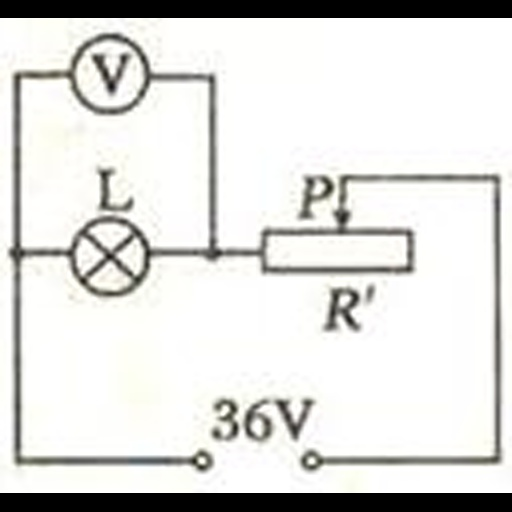light: (70, 214, 152, 299)
